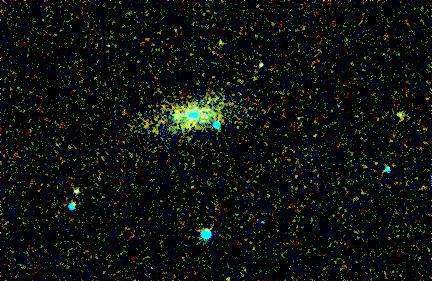star: (162, 98, 192, 128)
